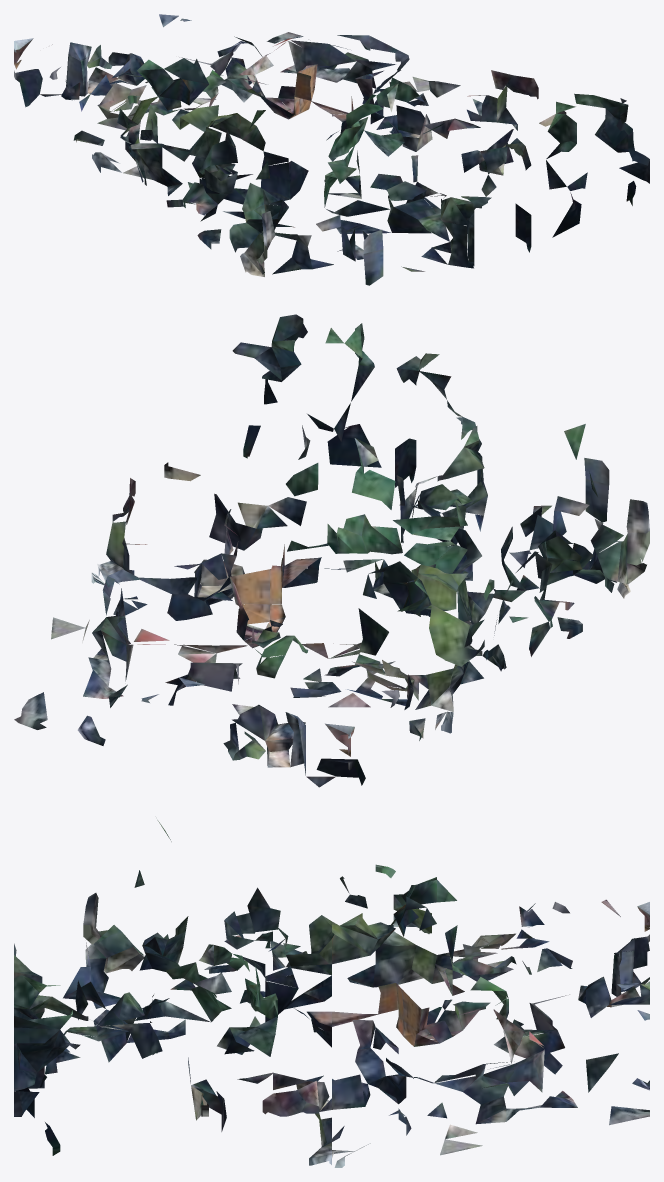
The picture shows the model from 3 angles, top to bottom: view 1: azimuth 30°, elevation 25°; view 2: azimuth 150°, elevation 25°; view 3: azimuth 270°, elevation 25°; orthographic projection. The views are drawn at different scales.
Visible parts, largest first — view 1: 3043627270436170560_1; view 2: 3043627270436170560_1; view 3: 3043627270436170560_1.
Part boxes in pixels (x1,y1,x2,y2): 3043627270436170560_1: [14, 14, 649, 285]; 3043627270436170560_1: [14, 314, 649, 787]; 3043627270436170560_1: [14, 820, 649, 1167].
Size of the model in its own units: 54.62 by 23.11 by 76.52.
1 material, 1 textured.
